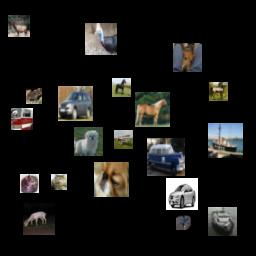airplane: (114, 130, 133, 149), (176, 214, 192, 230)
automobile: (147, 138, 185, 176), (58, 86, 93, 121), (166, 178, 198, 210)
bird: (85, 23, 117, 55)
cat: (20, 174, 39, 193), (51, 174, 67, 190)
deer: (23, 203, 55, 235), (8, 15, 30, 37)
dog: (94, 162, 129, 197), (173, 43, 202, 72), (74, 127, 103, 156)
frog: (26, 88, 42, 104)
ship: (208, 123, 243, 158), (208, 207, 237, 236)
truck: (11, 108, 33, 130)
